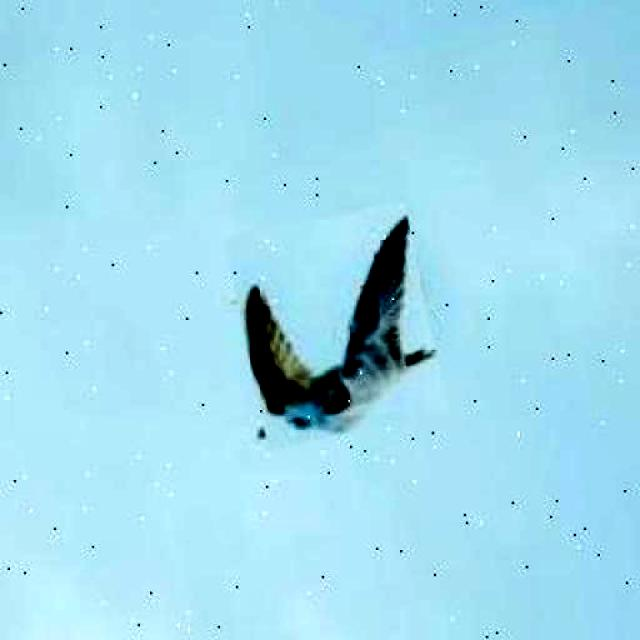airplane: (222, 200, 449, 450)
